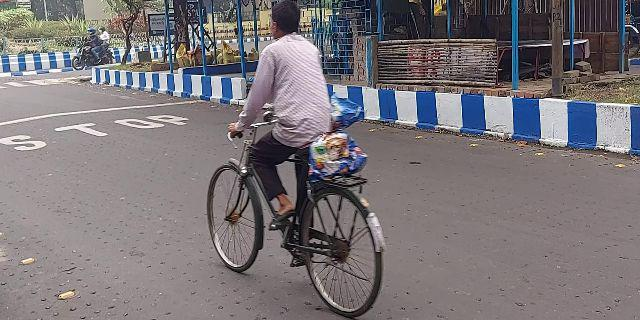Cycle: (191, 3, 405, 307)
